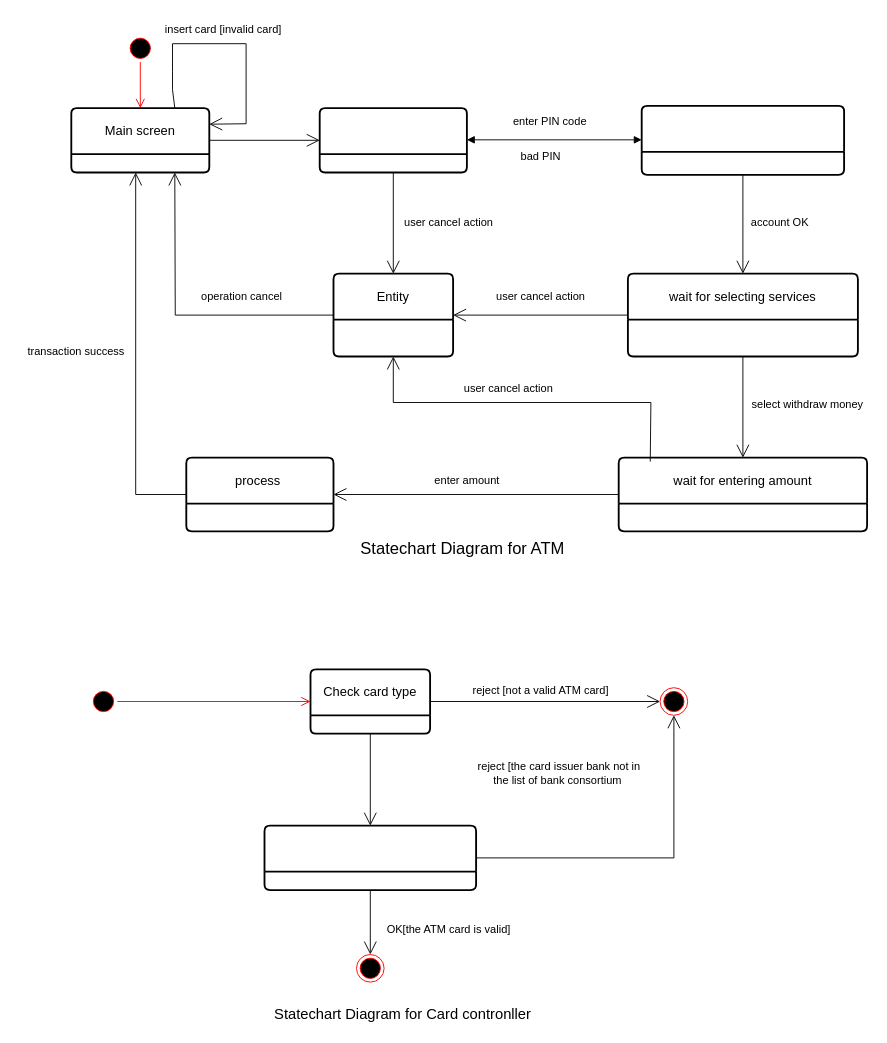
Image size: 887x1043. Some labels were removed from this diagram. The box of each missing label's shape, as (x1, y1, x2, y2) in pixels:
check card with bank consortium: (263, 824, 477, 891)
wait for account verification: (640, 104, 845, 175)
Wait for PIN: (318, 107, 467, 173)
